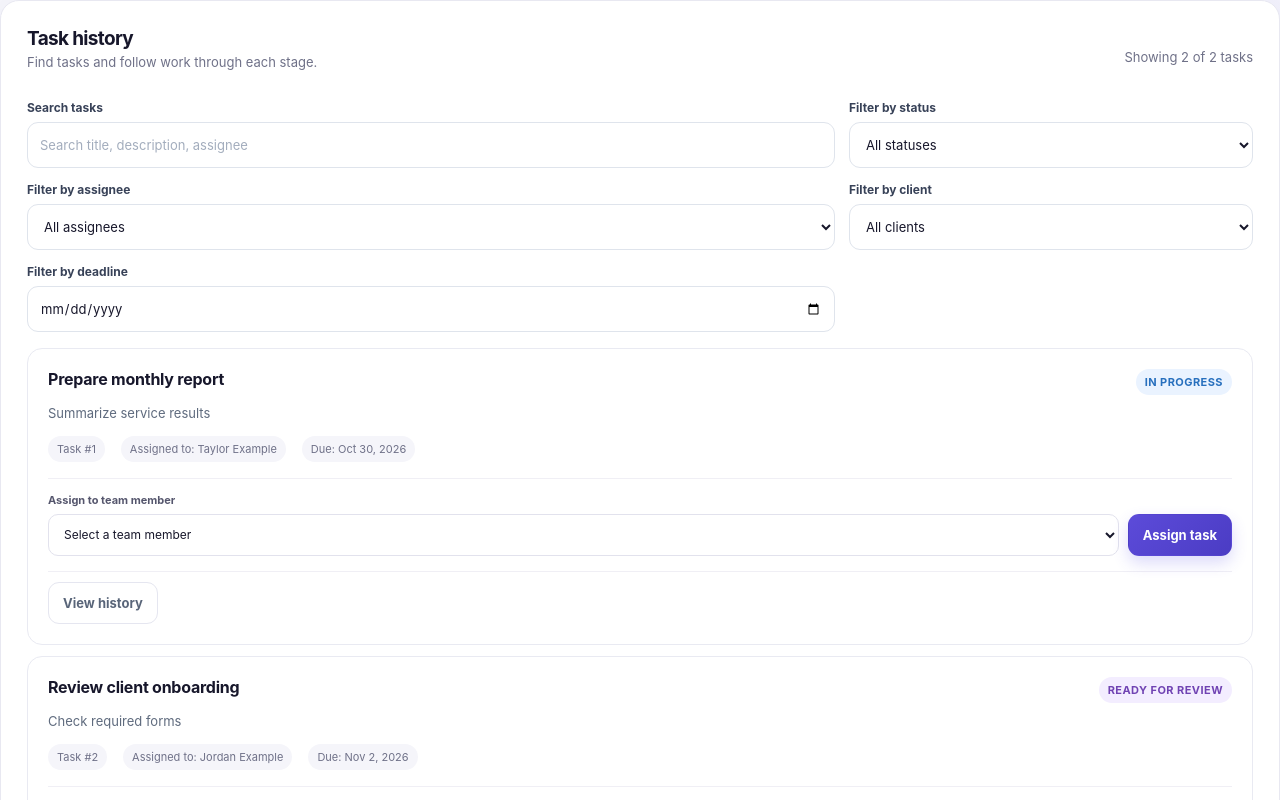
Scenario: TaskList › searches task details and filters by status
The image size is (1280, 800).
Step 1. Type "Taylor Example" into the search field labelled "Search tasks" → (431, 145), box [27,122,835,168]
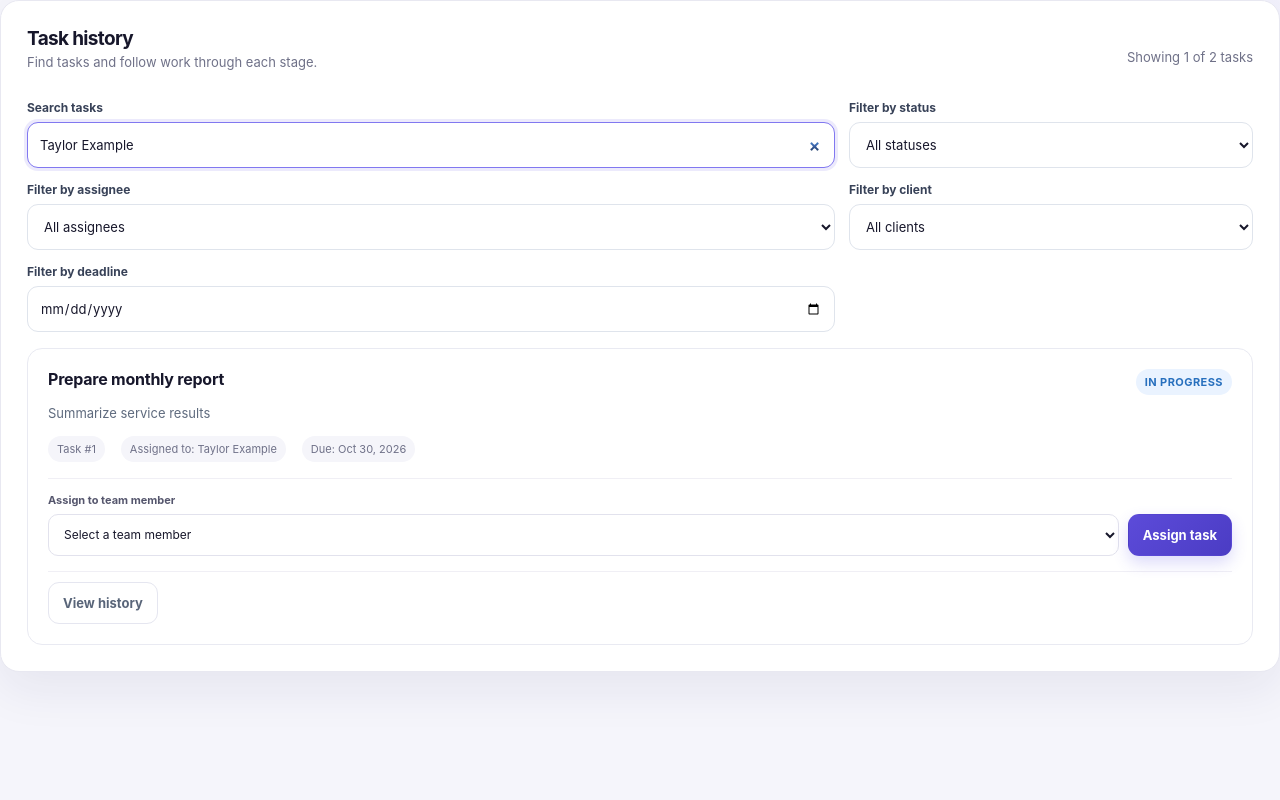
Expected: the heading "Prepare monthly report" is shown, [48,369,224,389]
Expected: the heading "Review client onboarding" is gone
Step 2. Clear the search field labelled "Search tasks" → (431, 145), box [27,122,835,168]
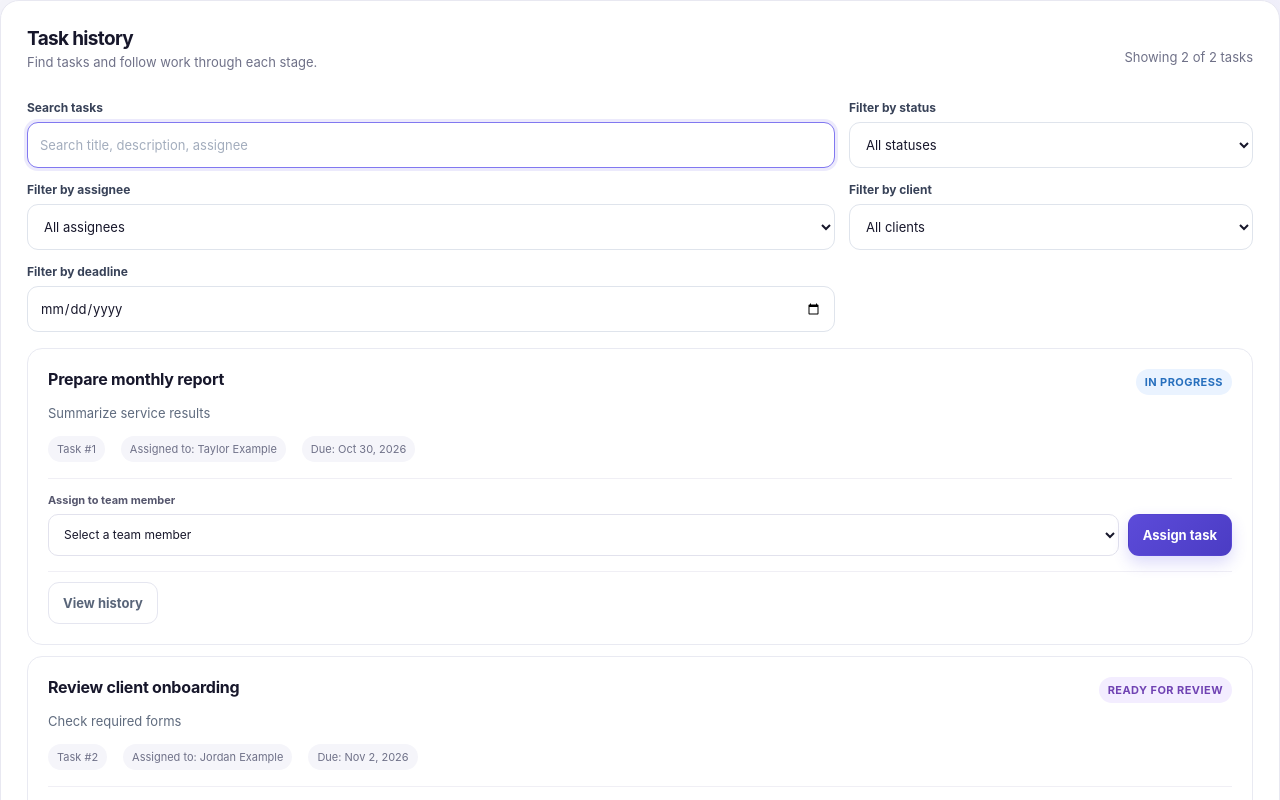
Step 3. Select "Ready for review" in the dropdown labelled "Filter by status" → (1051, 145), box [849,122,1253,168]
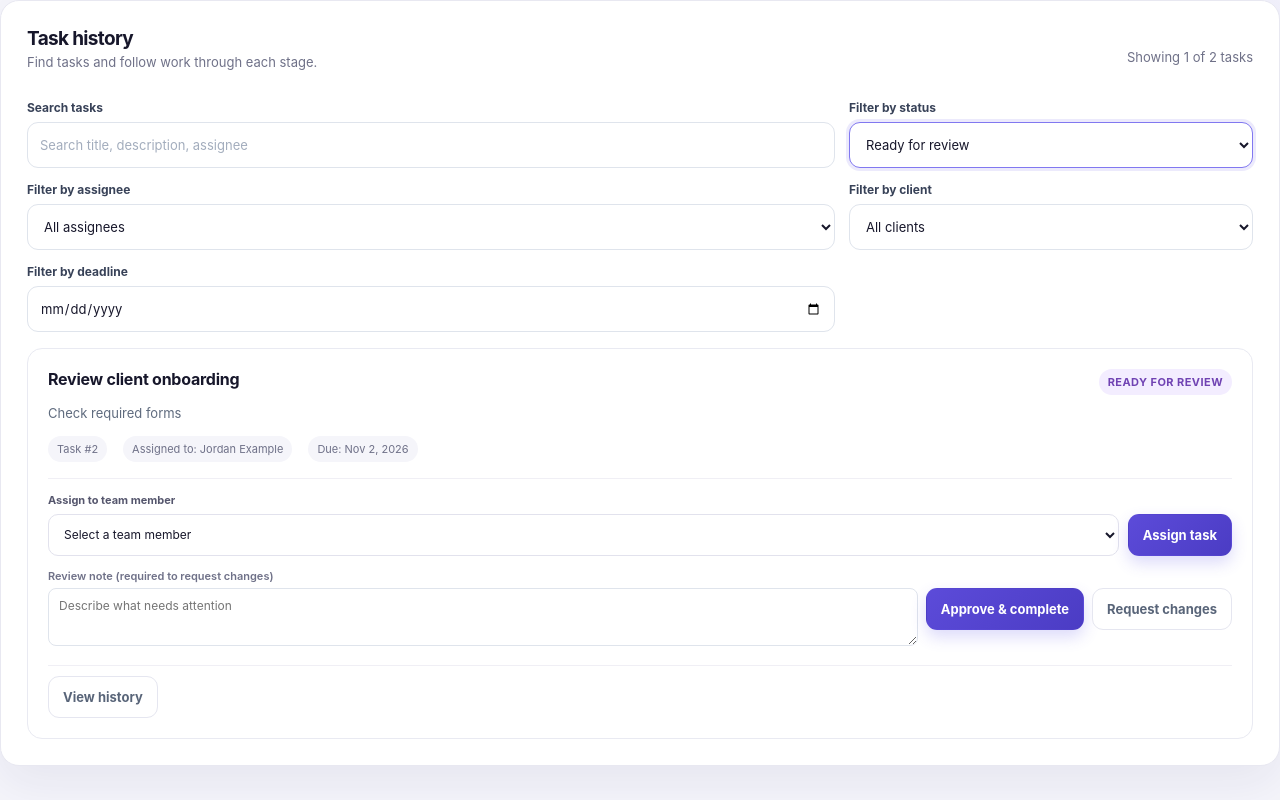
Expected: the heading "Review client onboarding" is shown, [48,369,239,389]
Expected: the heading "Prepare monthly report" is gone
